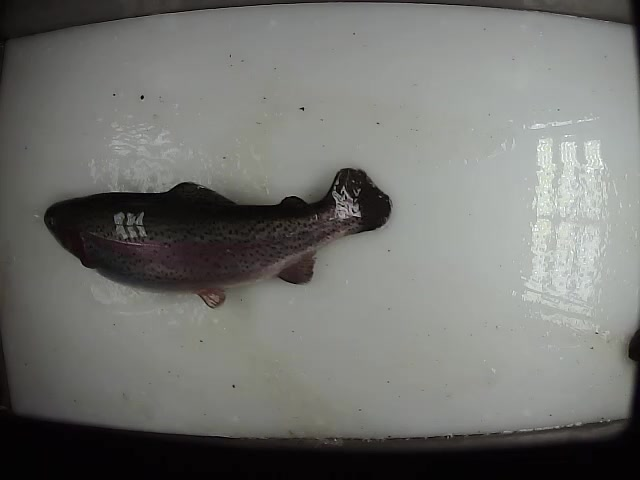fish: (41, 166, 394, 311)
